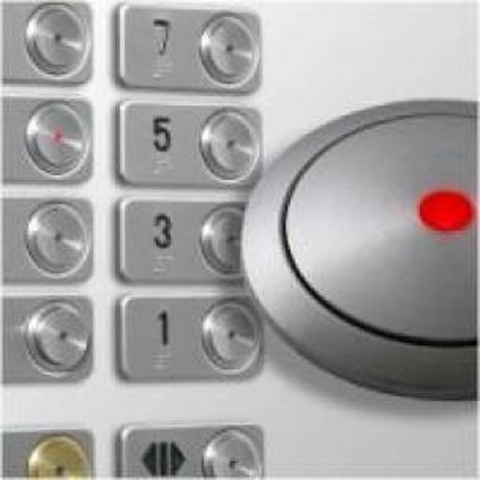1: (111, 288, 266, 385)
3: (112, 195, 254, 288)
5: (112, 99, 268, 191)
7: (115, 1, 268, 98)
empty: (1, 291, 97, 388), (1, 94, 96, 186), (1, 1, 98, 90), (1, 195, 96, 284)
open: (114, 416, 269, 480)
